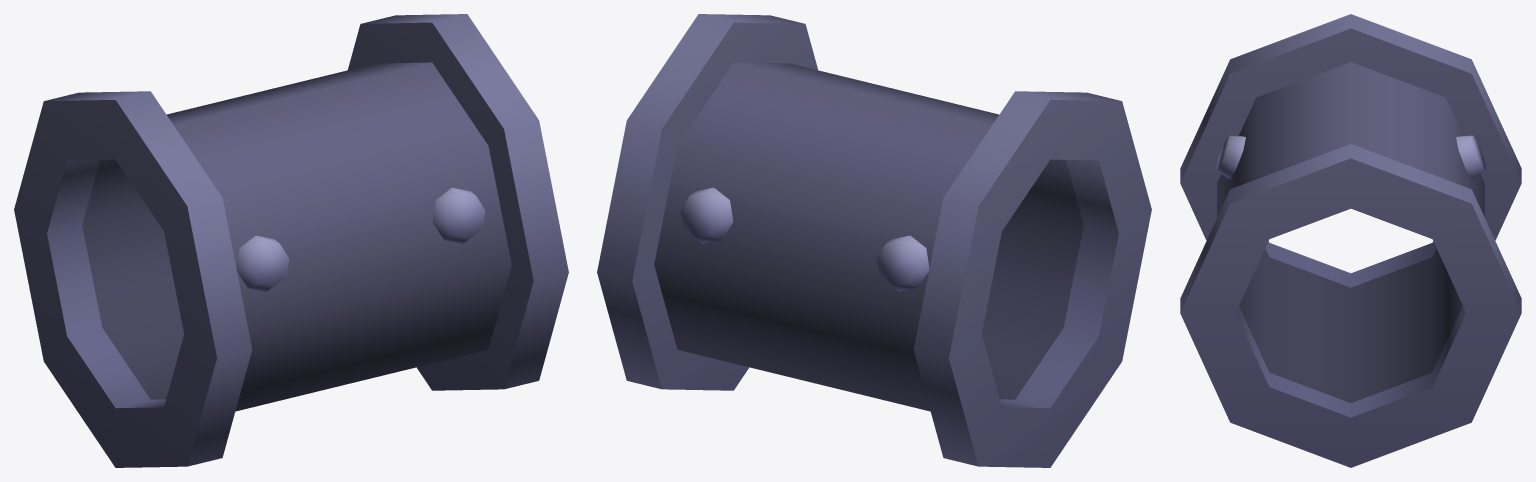
The model's file is pipe.glb.
The picture shows the model from 3 angles, left to right: view 1: azimuth 30°, elevation 25°; view 2: azimuth 150°, elevation 25°; view 3: azimuth 270°, elevation 25°; orthographic projection. The views are drawn at different scales.
Parts seen in each view (by area): view 1: pipe-large; view 2: pipe-large; view 3: pipe-large.
Part boxes in pixels (bbox=[...]): pipe-large: bbox=[14, 14, 568, 467]; pipe-large: bbox=[597, 14, 1151, 467]; pipe-large: bbox=[1180, 14, 1521, 467].
Bounding box in the file's own units: 1 × 1 × 1.
1 material, 1 textured.
